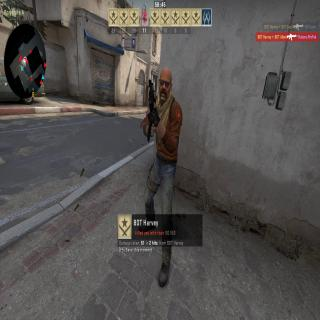T-Body: (140, 69, 183, 282)
T-Head: (158, 68, 173, 102)
